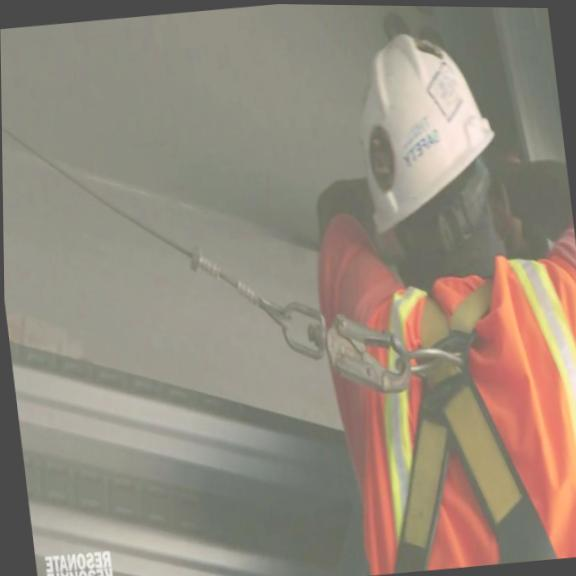safety_vest: (306, 191, 576, 576)
